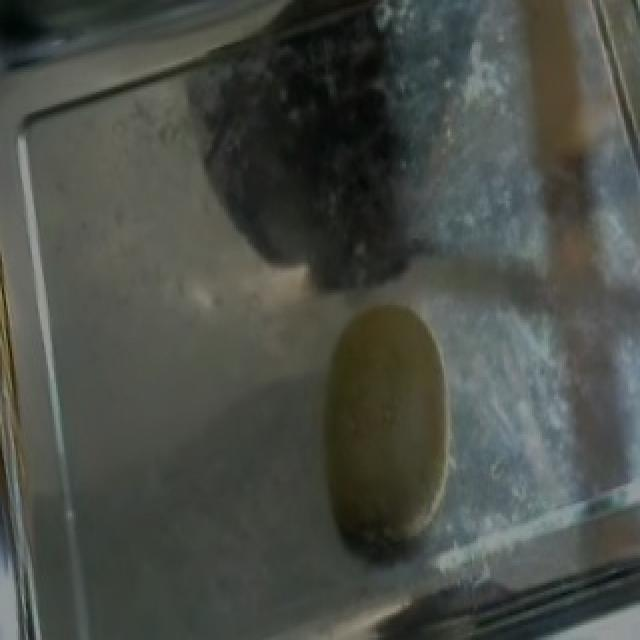Fruit: (284, 295, 492, 583), (488, 0, 640, 263)
